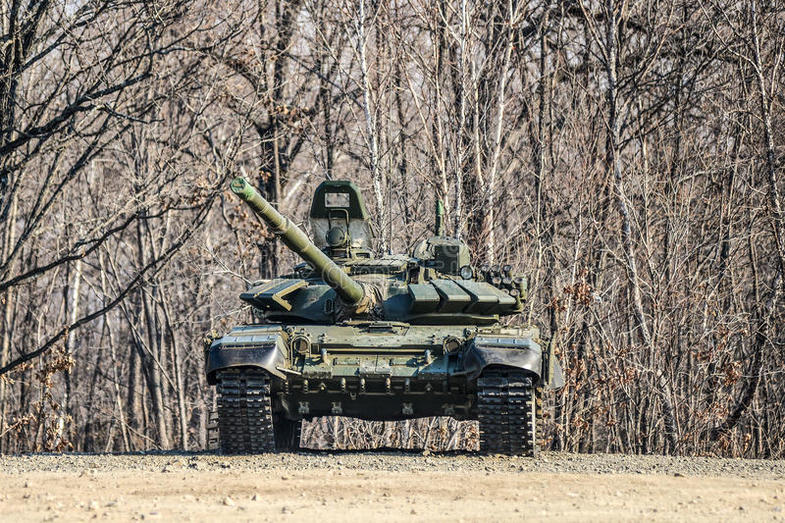t72: (215, 180, 548, 452)
